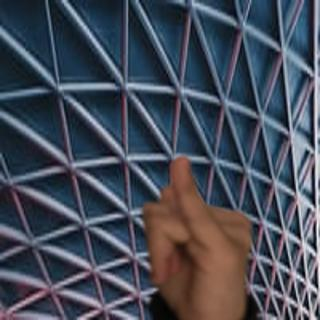HAVE: (130, 149, 267, 320)
